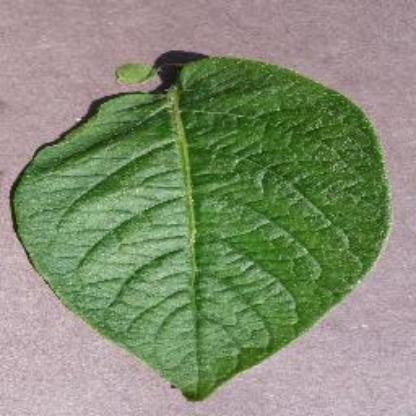Healthy-plant: (18, 45, 398, 411)
